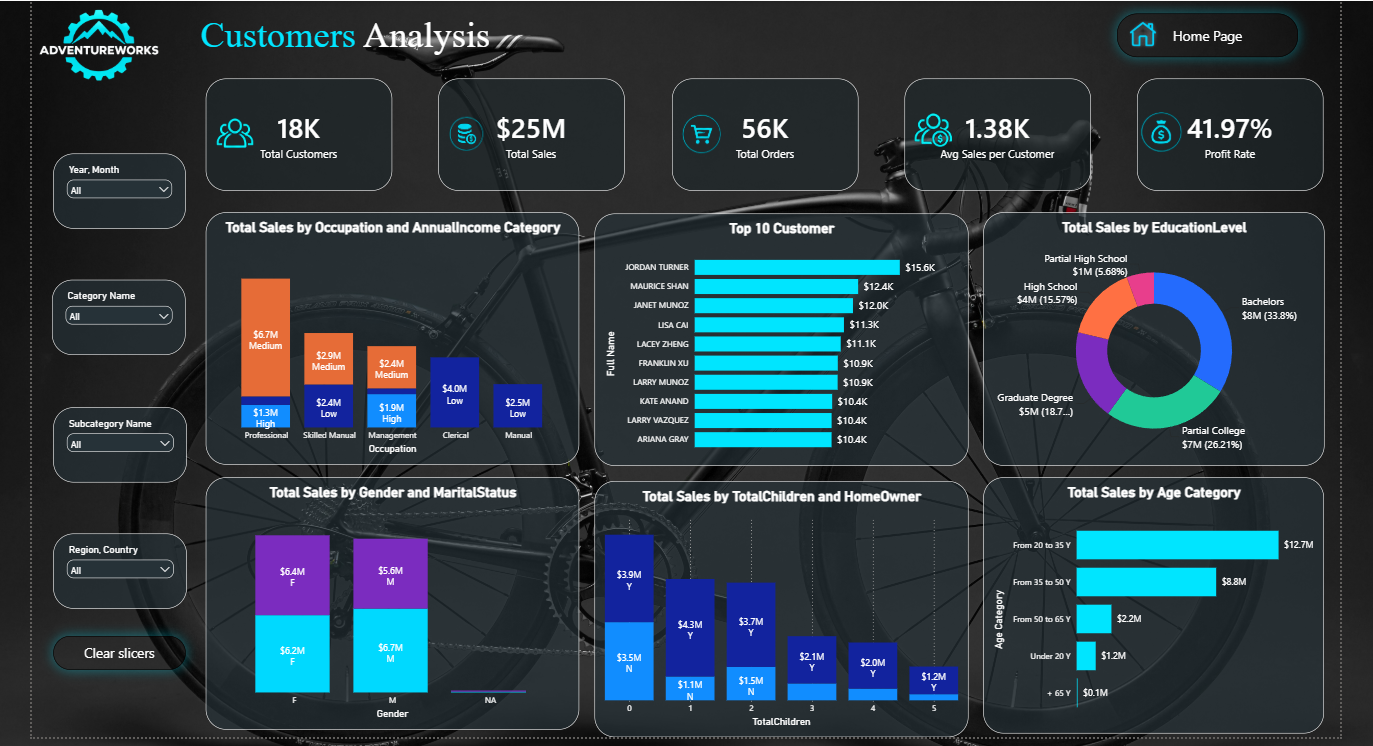

Layout of this report page (visuals, bound fields, positions):
{"tool":"powerbi","page":{"name":"Customers Analysis","canvas":[1920,1080],"ordinal":3},"visuals":[{"type":"textbox","box":[242.1,14.7,438.4,71.5],"z":0},{"type":"image","box":[0,0,196.3,128.4],"z":1000},{"type":"slicer","fields":{"Values":["Calendar Table.Year","Calendar Table.Month Name"]},"box":[31.2,223.8,194.4,110.1],"z":2000},{"type":"slicer","fields":{"Values":["Product_Categories.CategoryName"]},"box":[29.3,409.6,196.3,110.1],"z":3000},{"type":"slicer","fields":{"Values":["Product_Subcategories.SubcategoryName"]},"box":[30.4,595.5,196.3,110.1],"z":4000},{"type":"slicer","fields":{"Values":["Territories.Region","Territories.Country"]},"box":[31.2,781.4,196.3,110.1],"z":5000},{"type":"actionButton","box":[31.2,931.8,194.4,49.5],"z":6000},{"type":"actionButton","box":[1592.1,18.3,266,64.2],"z":7000},{"type":"columnChart","fields":{"Category":["Customers.Occupation"],"Series":["Customers.AnnualIncome Category"],"Y":["Sales.Total Sales"]},"box":[255,310,548,370],"z":8000},{"type":"barChart","title":"Top 10 Customer","fields":{"Category":["Customers.Full Name"],"Y":["Sales.Total Sales"]},"box":[825.4,311.8,548.4,370],"z":9000},{"type":"barChart","fields":{"Category":["Customers.Age Category"],"Y":["Sales.Total Sales"]},"box":[1395.9,698.8,500,376],"z":10000},{"type":"donutChart","fields":{"Category":["Customers.EducationLevel"],"Y":["Sales.Total Sales"]},"box":[1395.9,310,500.7,372.4],"z":11000},{"type":"columnChart","fields":{"Category":["Customers.Gender"],"Series":["Customers.MaritalStatus"],"Y":["Sales.Total Sales"]},"box":[255,698.8,548,370],"z":12000},{"type":"columnChart","fields":{"Category":["Customers.TotalChildren"],"Series":["Customers.HomeOwner"],"Y":["Sales.Total Sales"]},"box":[825.4,704.4,548.4,376],"z":13000},{"type":"cardVisual","fields":{"Data":["Customers.Total Customers"]},"box":[255,113.7,273.3,165.1],"z":14000},{"type":"cardVisual","fields":{"Data":["Sales.Total Sales"]},"box":[596.6,113.7,273.3,165.1],"z":15000},{"type":"cardVisual","fields":{"Data":["Customers.Avg Sales per Customer"]},"box":[1279.8,113.7,273.3,165.1],"z":16000},{"type":"cardVisual","fields":{"Data":["Sales.Profit %"]},"box":[1621.5,113.7,273.3,165.1],"z":17000},{"type":"cardVisual","fields":{"Data":["Sales.Total Orders"]},"box":[938.2,113.7,273.3,165.1],"z":18000},{"type":"image","box":[581.5,146.7,115.6,95.4],"z":19000},{"type":"image","box":[929,147.6,116.2,94.5],"z":20000},{"type":"image","box":[1605,146.7,115.6,95.4],"z":21000},{"type":"image","box":[264.1,148.6,71.5,93.5],"z":22000},{"type":"image","box":[1284,141.2,78.9,93.5],"z":23000},{"type":"image","box":[1592.1,18.3,77,58.7],"z":23001}]}

Visuals, with their boxes on the page's 1920x1080 design canvas (x1, y1, x2, y2). These are canvas units, not pixel positions in the 1373x746 screenshot, which may show the page scaled, cropped or inside an application window:
textbox: (x1=242, y1=15, x2=680, y2=86)
image: (x1=0, y1=0, x2=196, y2=128)
slicer - Calendar Table.Year x Calendar Table.Month Name: (x1=31, y1=224, x2=226, y2=334)
slicer - Product_Categories.CategoryName: (x1=29, y1=410, x2=226, y2=520)
slicer - Product_Subcategories.SubcategoryName: (x1=30, y1=596, x2=227, y2=706)
slicer - Territories.Region x Territories.Country: (x1=31, y1=781, x2=228, y2=892)
actionButton: (x1=31, y1=932, x2=226, y2=981)
actionButton: (x1=1592, y1=18, x2=1858, y2=82)
columnChart - Customers.Occupation x Customers.AnnualIncome Category: (x1=255, y1=310, x2=803, y2=680)
"Top 10 Customer" barChart: (x1=825, y1=312, x2=1374, y2=682)
barChart - Customers.Age Category x Sales.Total Sales: (x1=1396, y1=699, x2=1896, y2=1075)
donutChart - Customers.EducationLevel x Sales.Total Sales: (x1=1396, y1=310, x2=1897, y2=682)
columnChart - Customers.Gender x Customers.MaritalStatus: (x1=255, y1=699, x2=803, y2=1069)
columnChart - Customers.TotalChildren x Customers.HomeOwner: (x1=825, y1=704, x2=1374, y2=1080)
cardVisual - Customers.Total Customers: (x1=255, y1=114, x2=528, y2=279)
cardVisual - Sales.Total Sales: (x1=597, y1=114, x2=870, y2=279)
cardVisual - Customers.Avg Sales per Customer: (x1=1280, y1=114, x2=1553, y2=279)
cardVisual - Sales.Profit %: (x1=1622, y1=114, x2=1895, y2=279)
cardVisual - Sales.Total Orders: (x1=938, y1=114, x2=1212, y2=279)
image: (x1=582, y1=147, x2=697, y2=242)
image: (x1=929, y1=148, x2=1045, y2=242)
image: (x1=1605, y1=147, x2=1721, y2=242)
image: (x1=264, y1=149, x2=336, y2=242)
image: (x1=1284, y1=141, x2=1363, y2=235)
image: (x1=1592, y1=18, x2=1669, y2=77)
